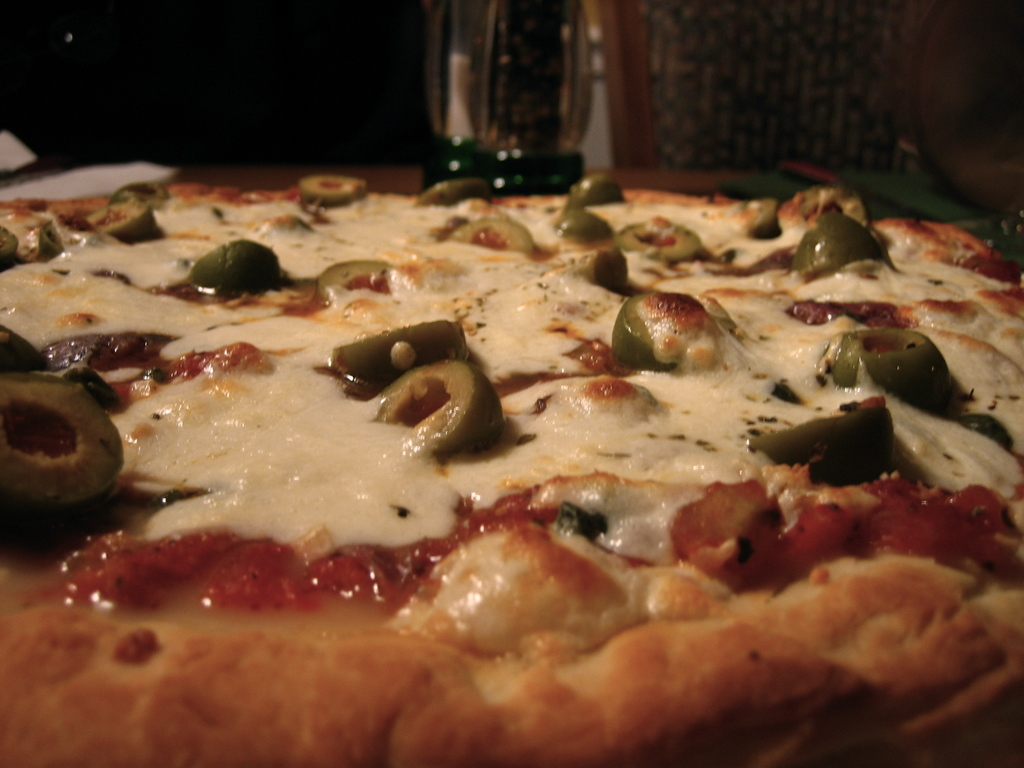Pizza: (0, 138, 1024, 744)
